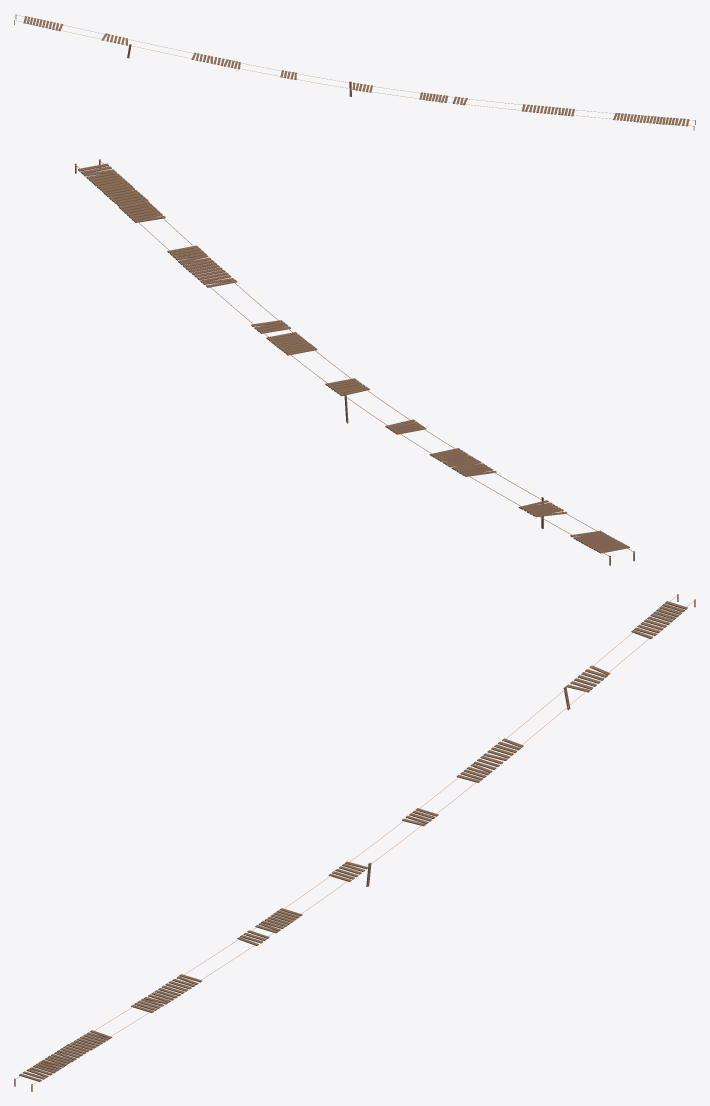
The model's file is Bridge_02.fbx.
3 renders of one model, top to bottom at view 1: azimuth 30°, elevation 25°; view 2: azimuth 150°, elevation 25°; view 3: azimuth 270°, elevation 25°, orthographic. The views are drawn at different scales.
Visible parts, largest first — view 1: Wood.130; view 2: Wood.130; view 3: Wood.130.
Boxes of the visible parts, <box> form: Wood.130: <box>14,14,695,130</box>; Wood.130: <box>74,159,635,565</box>; Wood.130: <box>14,594,695,1091</box>.
Size of the model in its own units: 10333 by 1540 by 7887.
